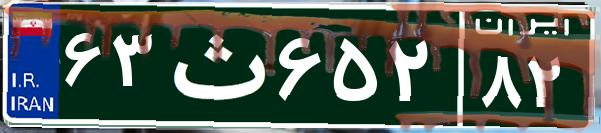2: (385, 28, 445, 110), (525, 38, 570, 115)
3: (110, 28, 158, 105)
5: (330, 28, 385, 110)
6: (273, 28, 330, 110), (57, 26, 110, 107)
8: (475, 38, 525, 113)
ث: (158, 15, 273, 115)
